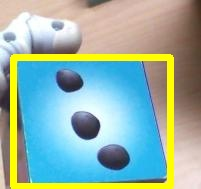Blue3: (13, 57, 170, 186)
